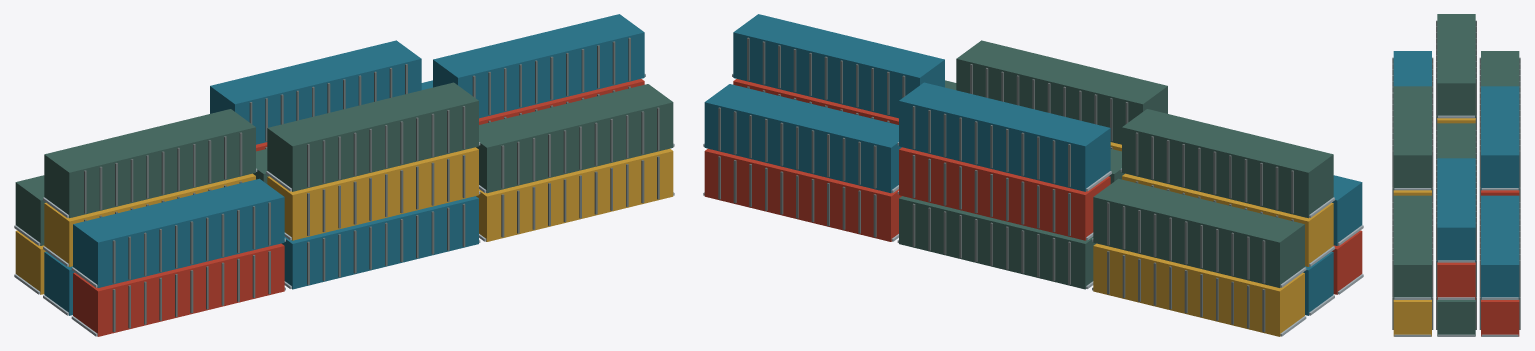
The model's file is ContainerStack.glb.
3 views of the same model, side by side, from view 1: azimuth 30°, elevation 25°; view 2: azimuth 150°, elevation 25°; view 3: azimuth 270°, elevation 25° (orthographic). The views are drawn at different scales.
Parts seen in each view (by area): view 1: ContainerStack; view 2: ContainerStack; view 3: ContainerStack.
Part boxes in pixels (box(x1,y1,x2,y2)): ContainerStack: box(14, 14, 674, 336); ContainerStack: box(703, 14, 1363, 336); ContainerStack: box(1392, 14, 1520, 336).
Size of the model in its own units: 37.22 by 8.8 by 9.4.
